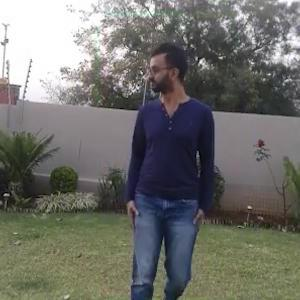follow: (112, 27, 224, 293)
